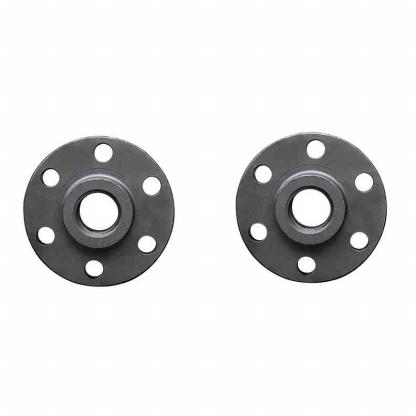FOD: (23, 129, 182, 292), (233, 125, 391, 289)
